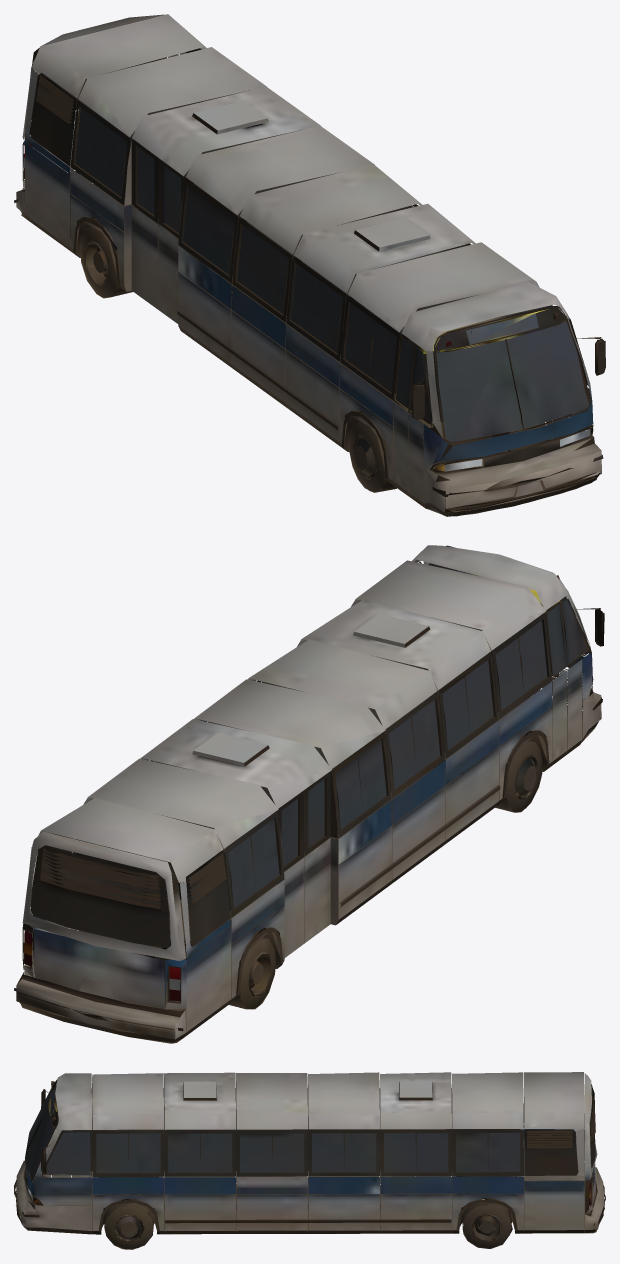
Rendered from pack-city-bus-L2.glb.
3 views of the same model, one above another, from view 1: azimuth 30°, elevation 25°; view 2: azimuth 150°, elevation 25°; view 3: azimuth 270°, elevation 25° (orthographic). The views are drawn at different scales.
Visible parts, largest first — view 1: body; view 2: body; view 3: body.
Part boxes in pixels (x1,y1,x2,y2): body: (14,14,605,516); body: (14,545,604,1043); body: (14,1072,605,1249).
Size of the model in its own units: 2.54 by 2.5 by 9.99.
1 material, 1 textured.
